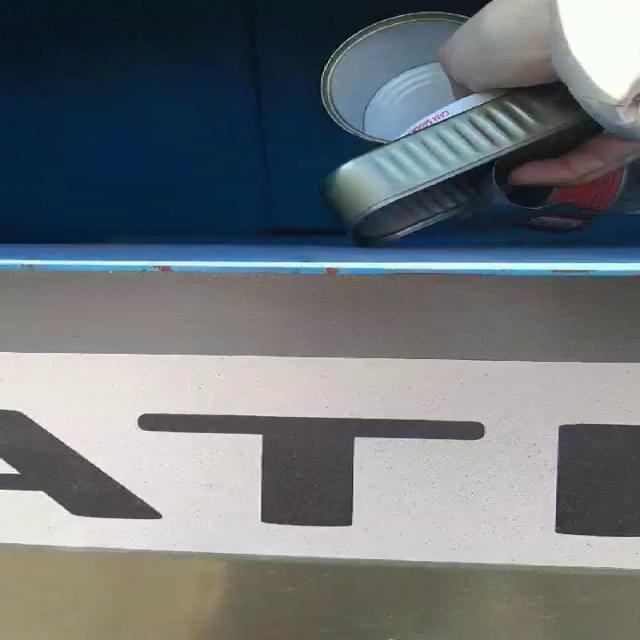bin: (1, 0, 640, 569)
metal: (321, 12, 625, 244)
